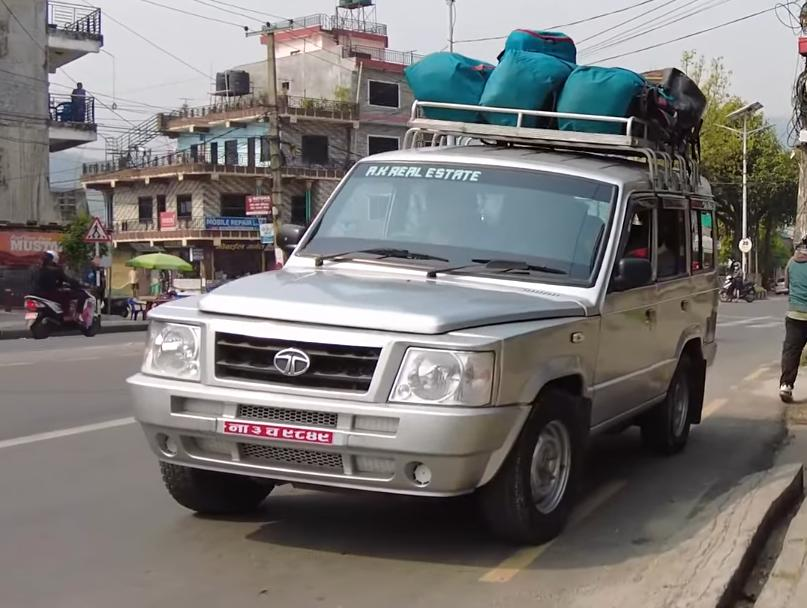SUV: (122, 88, 734, 537)
scooter: (19, 286, 102, 340)
